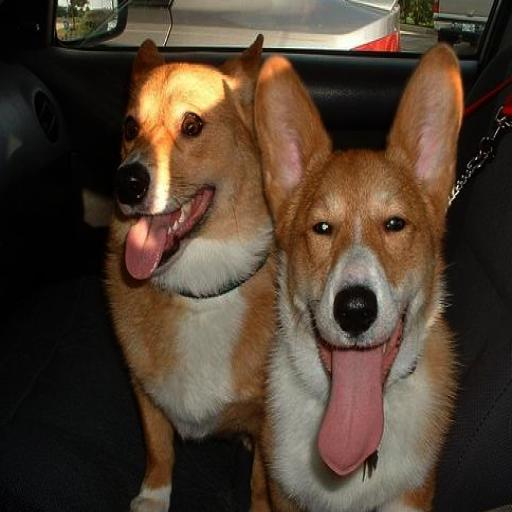dog_face: (257, 58, 474, 395), (115, 40, 267, 294)
